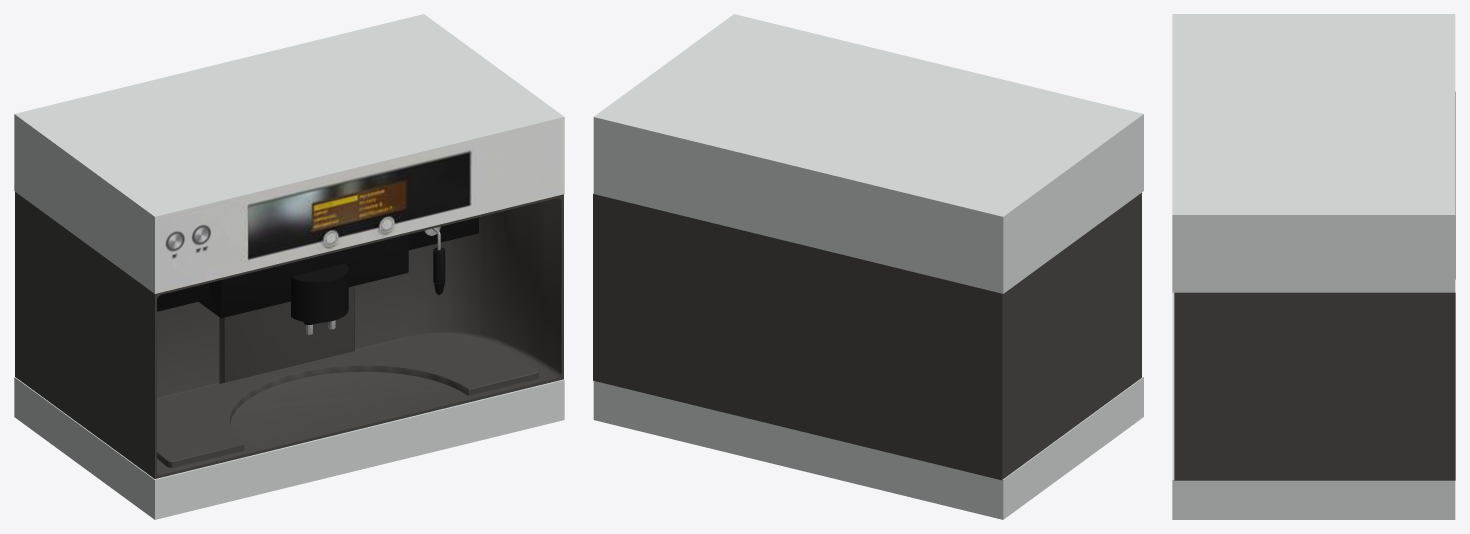
File: Coffee machine.FBX
3 renders of one model, left to right at view 1: azimuth 30°, elevation 25°; view 2: azimuth 150°, elevation 25°; view 3: azimuth 270°, elevation 25°, orthographic.
Visible parts, largest first — view 1: coffee machine; view 2: coffee machine; view 3: coffee machine.
Boxes of the visible parts, box(x1,y1,x2,y2) form: coffee machine: box(14, 14, 564, 519); coffee machine: box(593, 14, 1143, 519); coffee machine: box(1172, 14, 1455, 519).
Bounding box in the file's own units: 77 × 54.38 × 45.78.
1 material, 1 textured.
